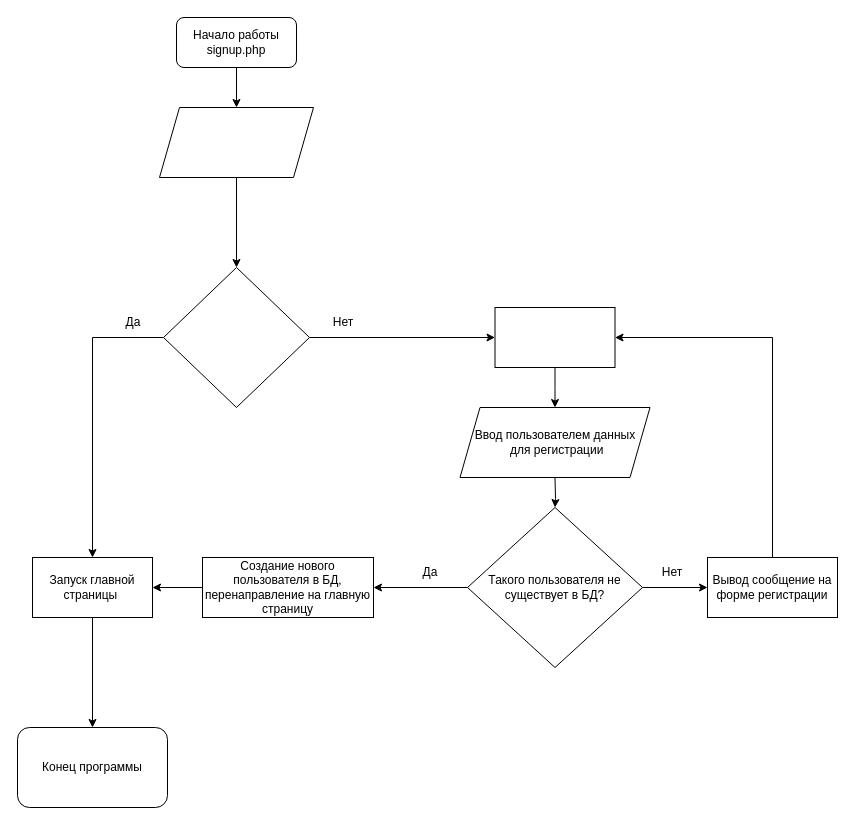
Some shapes in this 855 by 825 pixel diagram are drawn without their labels. The box of each missing label's shape, as (x1, y1, x2, y2) in pixels:
Ввод пользователем логина и пароля: (158, 106, 314, 178)
Запуск формы регистрации: (494, 306, 615, 368)
Существует ли такой пользователь в БД?: (162, 266, 310, 408)
